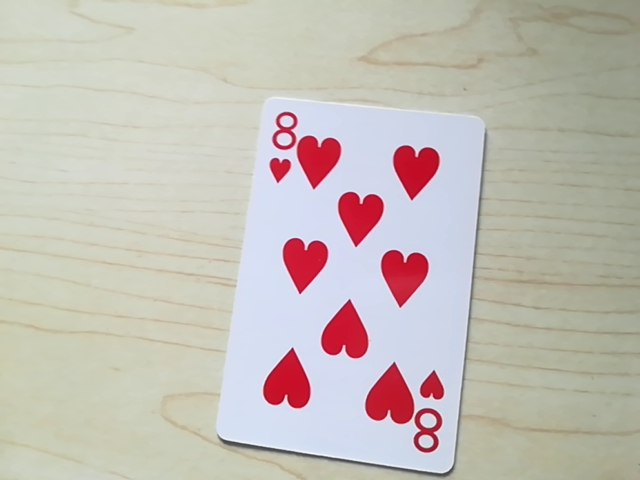hx 8: (407, 384, 450, 460), (266, 105, 305, 150)
